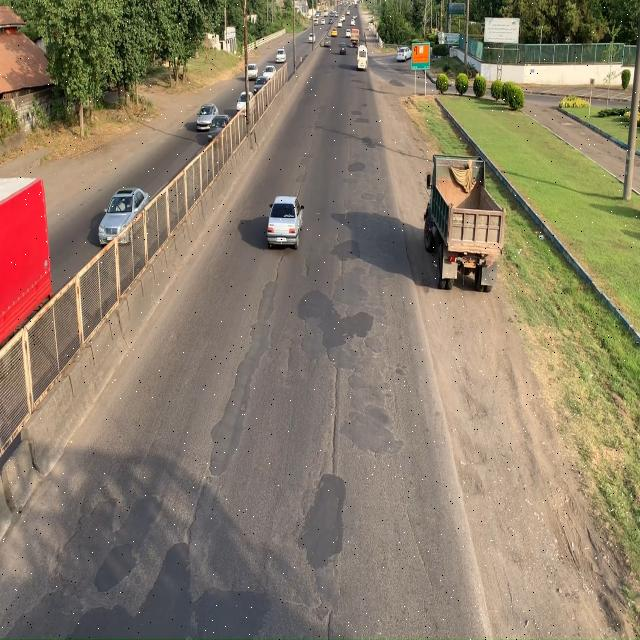Truck: (424, 156, 508, 298)
cars: (97, 188, 149, 245), (266, 193, 304, 247)
